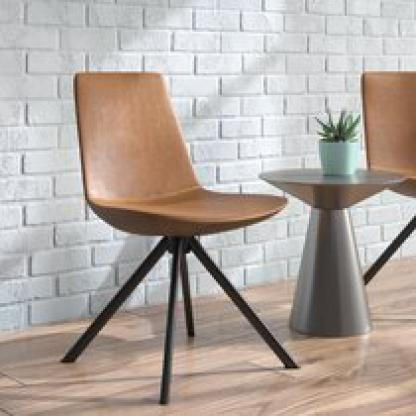chair: (65, 52, 297, 395), (347, 64, 416, 295)
table: (259, 165, 411, 340)
